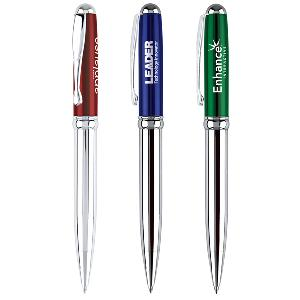pen: (193, 1, 236, 296), (128, 1, 168, 296), (65, 1, 103, 292)
